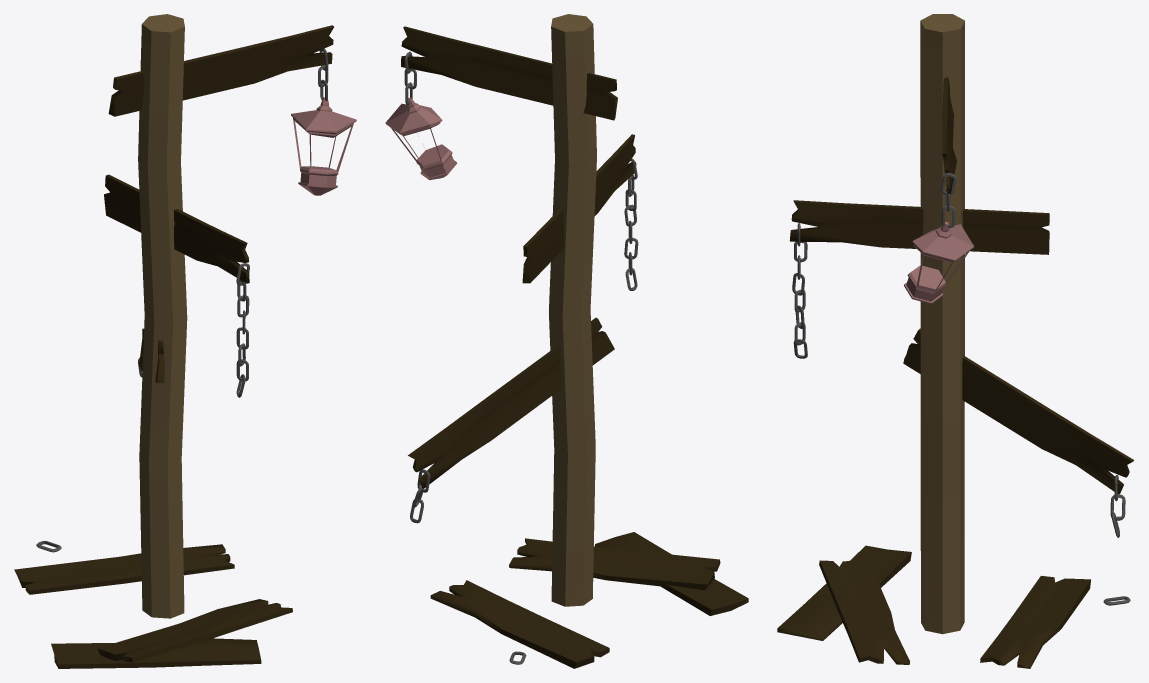
Rendered from Faro con objetos.fbx.
3 renders of one model, left to right at view 1: azimuth 30°, elevation 25°; view 2: azimuth 150°, elevation 25°; view 3: azimuth 270°, elevation 25°, orthographic. The views are drawn at different scales.
Visible parts, largest first — view 1: polySurface39; view 2: polySurface39; view 3: polySurface39.
Boxes of the visible parts, x1,y1,x2,y2 form: polySurface39: (14,14,356,668); polySurface39: (385,14,748,668); polySurface39: (777,14,1134,668).
Bounding box in the file's own units: 239 × 412 × 221.
